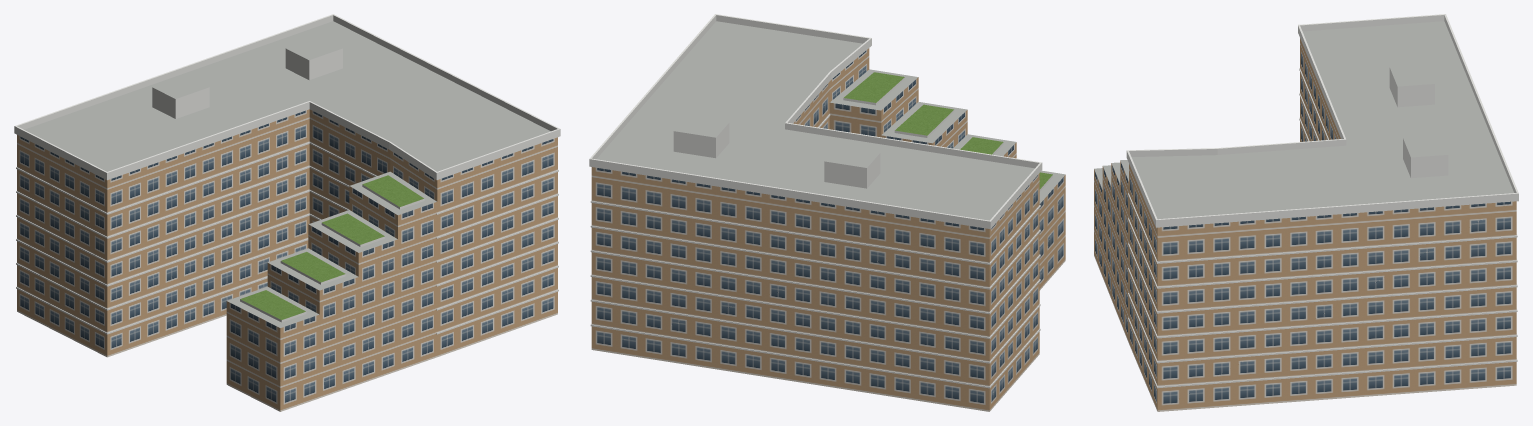
The model's file is oufanglou.glb.
3 views of the same model, side by side, from view 1: azimuth 30°, elevation 25°; view 2: azimuth 150°, elevation 25°; view 3: azimuth 270°, elevation 25° (orthographic). The views are drawn at different scales.
Parts seen in each view (by area): view 1: 藕舫楼_主楼, 藕舫楼_退台; view 2: 藕舫楼_主楼, 藕舫楼_退台; view 3: 藕舫楼_主楼, 藕舫楼_退台.
Boxes of the visible parts, x1,y1,x2,y2 form: 藕舫楼_主楼: (14, 14, 560, 357); 藕舫楼_退台: (226, 171, 437, 411); 藕舫楼_主楼: (589, 14, 1042, 411); 藕舫楼_退台: (829, 69, 1065, 290); 藕舫楼_主楼: (1126, 14, 1518, 411); 藕舫楼_退台: (1094, 160, 1128, 342).
Bounding box in the file's own units: 64.01 × 30 × 55.75.
4 materials, 2 textured.
